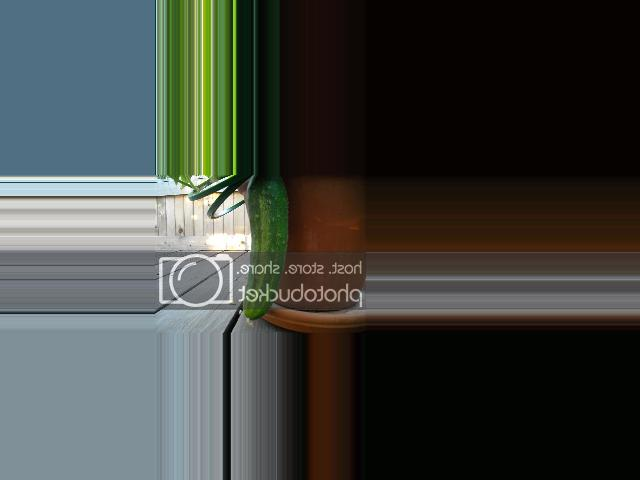cucumber: (242, 175, 287, 327)
